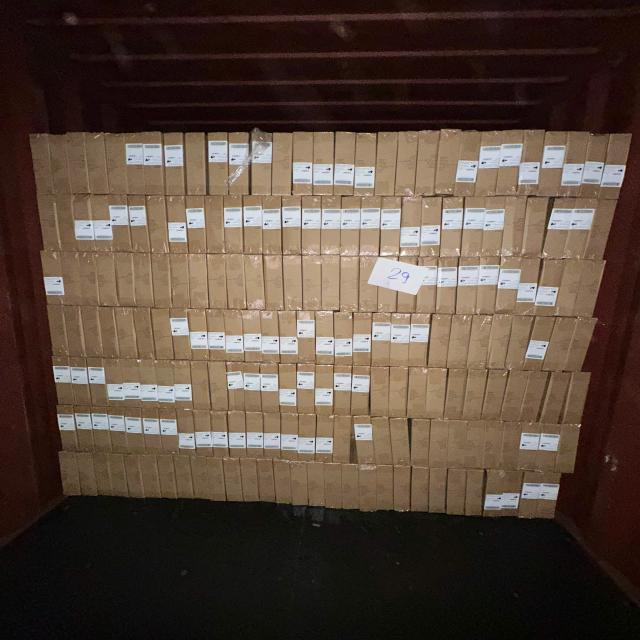Carton: (580, 200, 619, 260), (598, 134, 633, 198), (535, 132, 568, 199), (562, 198, 598, 259), (577, 134, 611, 197), (541, 198, 576, 259), (556, 132, 589, 196), (550, 260, 586, 318), (572, 260, 606, 318), (541, 318, 577, 372), (563, 318, 598, 372), (497, 130, 524, 198), (533, 260, 563, 318), (455, 130, 480, 198), (477, 130, 502, 197), (523, 318, 554, 372), (517, 372, 548, 426), (34, 194, 62, 253), (28, 133, 55, 194), (523, 197, 550, 257), (523, 130, 547, 197), (437, 130, 461, 196), (394, 132, 418, 198), (562, 371, 591, 425), (52, 192, 78, 252), (416, 132, 439, 198), (41, 251, 68, 307), (106, 133, 130, 195), (65, 132, 89, 194), (542, 373, 570, 426), (229, 133, 252, 197), (164, 134, 187, 198), (86, 132, 109, 196), (354, 134, 376, 200), (495, 258, 520, 316), (516, 258, 541, 316), (207, 134, 230, 197), (48, 134, 72, 194), (272, 133, 294, 198), (461, 198, 484, 260), (376, 134, 398, 198), (316, 132, 338, 196), (184, 134, 206, 198), (335, 133, 357, 197), (508, 318, 534, 372), (483, 196, 506, 257), (477, 258, 501, 316), (292, 132, 313, 198), (252, 133, 274, 196), (502, 198, 525, 258), (466, 316, 491, 371), (442, 196, 464, 258), (420, 198, 442, 260), (129, 195, 152, 254), (71, 195, 94, 254), (502, 368, 527, 422), (143, 134, 164, 198), (60, 251, 84, 307), (437, 258, 460, 316), (109, 195, 132, 253), (456, 258, 479, 316), (380, 198, 402, 258), (93, 194, 115, 253), (448, 315, 472, 369), (488, 315, 512, 369), (302, 197, 323, 258), (359, 196, 380, 257), (341, 198, 362, 259), (320, 195, 341, 256), (146, 196, 168, 254), (535, 423, 561, 472), (554, 424, 580, 473), (281, 196, 302, 256), (126, 132, 146, 195), (428, 316, 451, 370), (416, 258, 438, 314), (519, 471, 544, 520), (484, 371, 508, 422), (57, 449, 83, 496), (82, 306, 105, 359), (47, 304, 70, 357), (244, 197, 264, 257), (264, 196, 284, 256), (402, 197, 422, 257), (352, 418, 376, 468), (518, 425, 543, 473), (114, 254, 136, 308), (97, 254, 119, 308), (226, 195, 246, 254), (170, 196, 190, 255), (446, 369, 468, 422), (117, 308, 139, 361), (154, 309, 176, 362), (186, 196, 206, 254), (378, 256, 398, 314), (320, 257, 341, 312), (245, 256, 266, 311), (317, 313, 338, 368), (80, 252, 101, 307), (106, 406, 130, 454), (88, 358, 111, 408), (64, 306, 86, 358), (206, 194, 225, 254), (91, 406, 115, 453), (72, 405, 96, 452), (537, 473, 561, 520), (425, 369, 447, 420), (265, 255, 285, 311), (303, 256, 323, 312), (358, 256, 378, 312), (408, 365, 429, 418), (99, 308, 120, 361), (56, 406, 80, 452), (481, 422, 504, 470), (282, 256, 302, 311), (228, 255, 248, 310), (188, 255, 208, 310), (410, 315, 430, 370), (208, 255, 228, 310), (134, 254, 154, 309), (341, 257, 361, 312), (170, 255, 190, 310), (70, 358, 92, 408), (464, 370, 486, 420), (482, 470, 504, 520), (398, 258, 418, 313), (352, 314, 372, 368), (373, 314, 393, 368), (135, 308, 155, 362), (151, 255, 171, 309), (53, 358, 75, 407), (464, 420, 486, 469), (500, 421, 522, 470), (371, 367, 392, 418), (242, 310, 262, 363), (190, 454, 213, 500), (125, 406, 147, 454), (373, 418, 394, 468), (410, 420, 431, 470), (336, 313, 355, 368), (188, 311, 208, 363), (262, 312, 282, 364), (317, 362, 337, 414), (226, 311, 246, 363), (172, 310, 192, 362), (139, 453, 162, 498), (160, 408, 182, 455), (76, 449, 98, 496), (500, 471, 522, 518), (447, 420, 468, 469), (391, 315, 410, 369), (296, 313, 315, 367), (389, 368, 409, 419), (209, 362, 229, 413), (262, 363, 282, 414), (158, 452, 180, 498), (173, 453, 195, 499), (390, 419, 411, 467), (447, 469, 468, 517), (142, 407, 163, 455), (190, 361, 210, 411), (429, 420, 449, 470), (174, 360, 194, 410), (158, 360, 178, 410), (138, 358, 158, 408), (107, 357, 127, 407), (222, 457, 244, 502), (125, 453, 147, 498), (92, 452, 114, 497), (279, 363, 298, 415), (464, 469, 484, 518), (122, 358, 142, 407), (352, 366, 371, 417), (176, 410, 197, 456), (109, 452, 130, 498), (335, 416, 355, 464), (316, 417, 336, 465), (280, 414, 300, 462), (342, 464, 362, 512), (324, 463, 344, 511), (296, 361, 314, 414), (208, 311, 226, 364), (240, 457, 261, 502), (206, 456, 227, 501), (228, 412, 248, 459), (411, 467, 431, 514), (392, 466, 412, 513), (428, 468, 448, 515), (308, 462, 328, 509), (280, 312, 298, 364), (335, 363, 353, 415), (296, 414, 315, 463), (258, 458, 278, 504), (247, 412, 266, 460), (358, 465, 377, 513), (274, 459, 294, 504), (244, 363, 262, 413), (226, 360, 244, 410), (264, 414, 283, 461), (195, 411, 214, 458), (376, 467, 395, 513), (211, 412, 229, 459), (290, 460, 308, 506)
